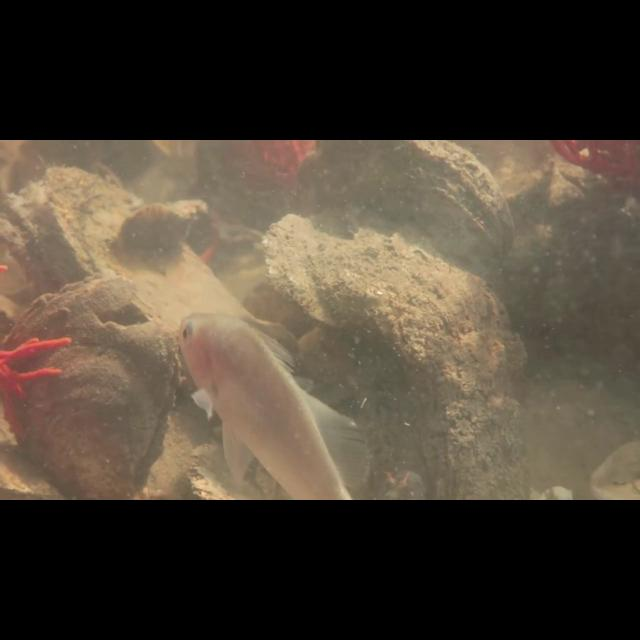Oyster-Closed: (261, 211, 547, 496), (0, 271, 180, 500)
